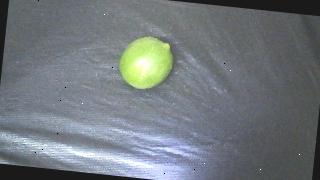LOCAL: (117, 34, 175, 92)
